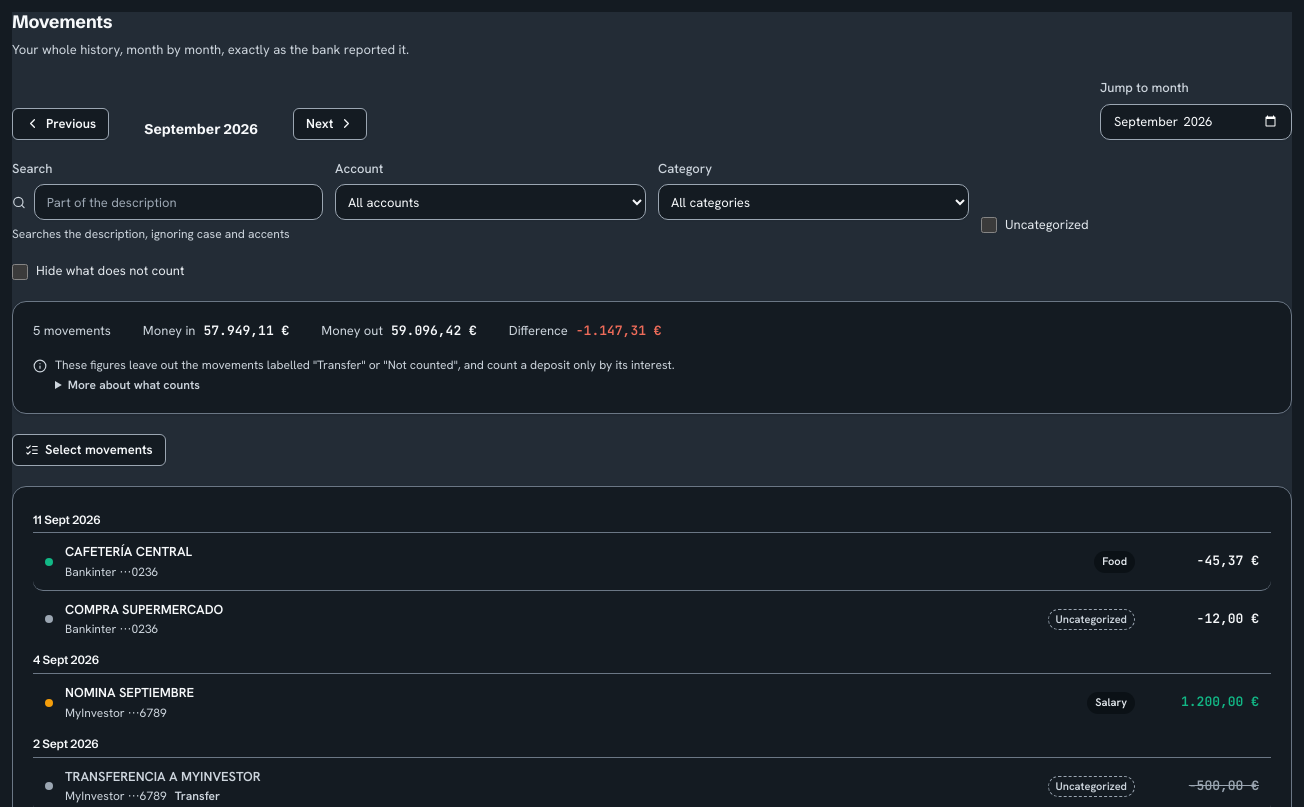
Test case: StatementView › correcting a category from the screen (feature 21) › undoes the last change from the notice (R12)
Click the button with test id "statement-row-category-button" showing "Food".
click(1115, 562)  # box [1094, 550, 1135, 573]
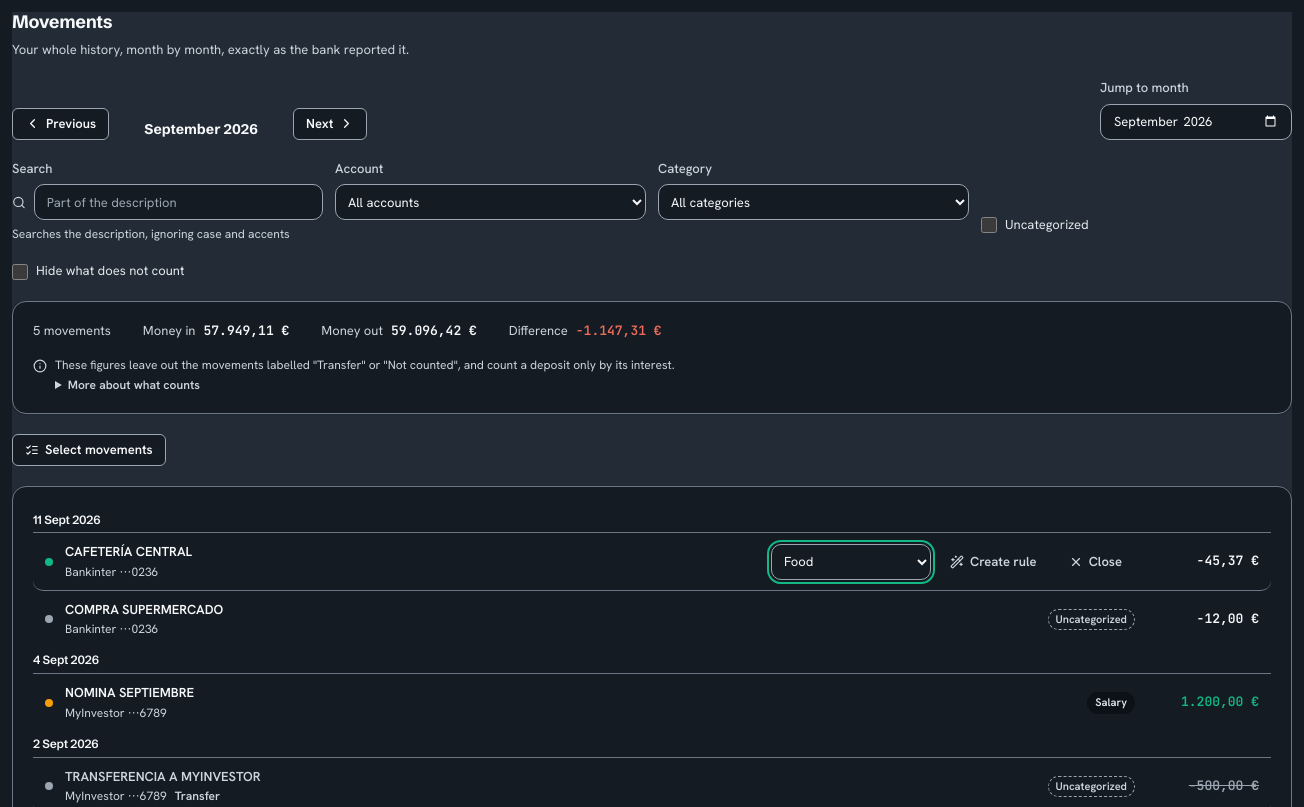
Select "Groceries" in the 3rd dropdown at (851, 562), box [771, 544, 931, 580]
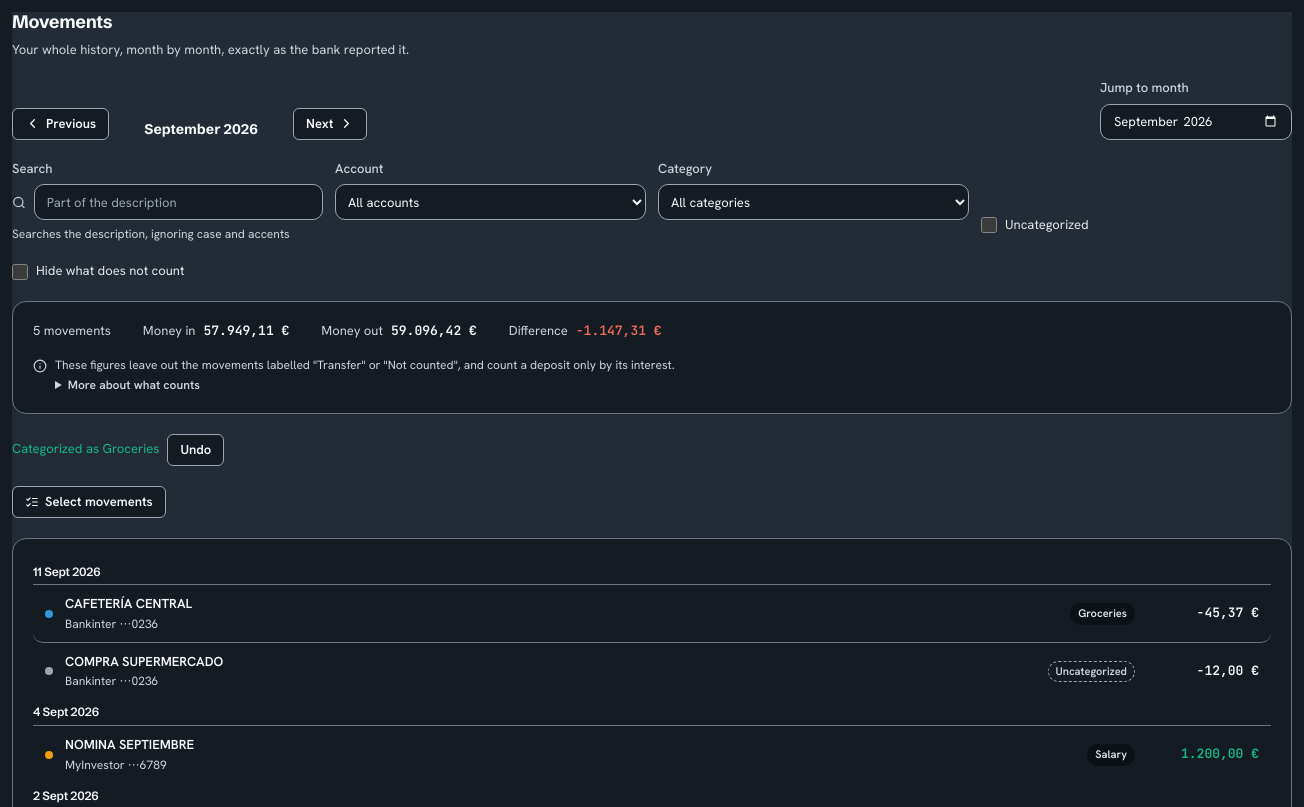
Click the button with test id "statement-action-undo".
click(196, 450)  # box [167, 434, 224, 466]
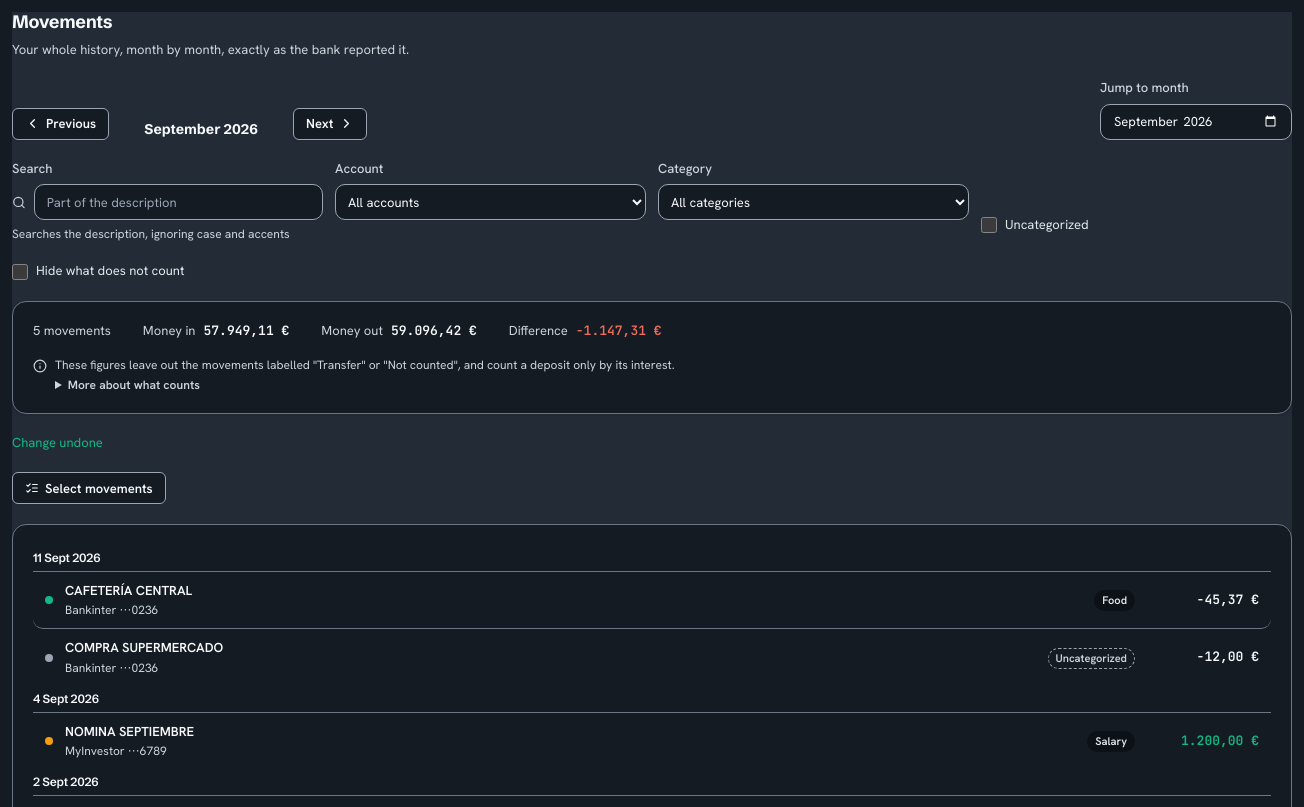
Result: the text with test id "statement-row-category" reads "Food" at [1102, 593, 1127, 607]
Result: the text with test id "statement-action-summary" reads "Change undone" at [12, 434, 103, 450]
